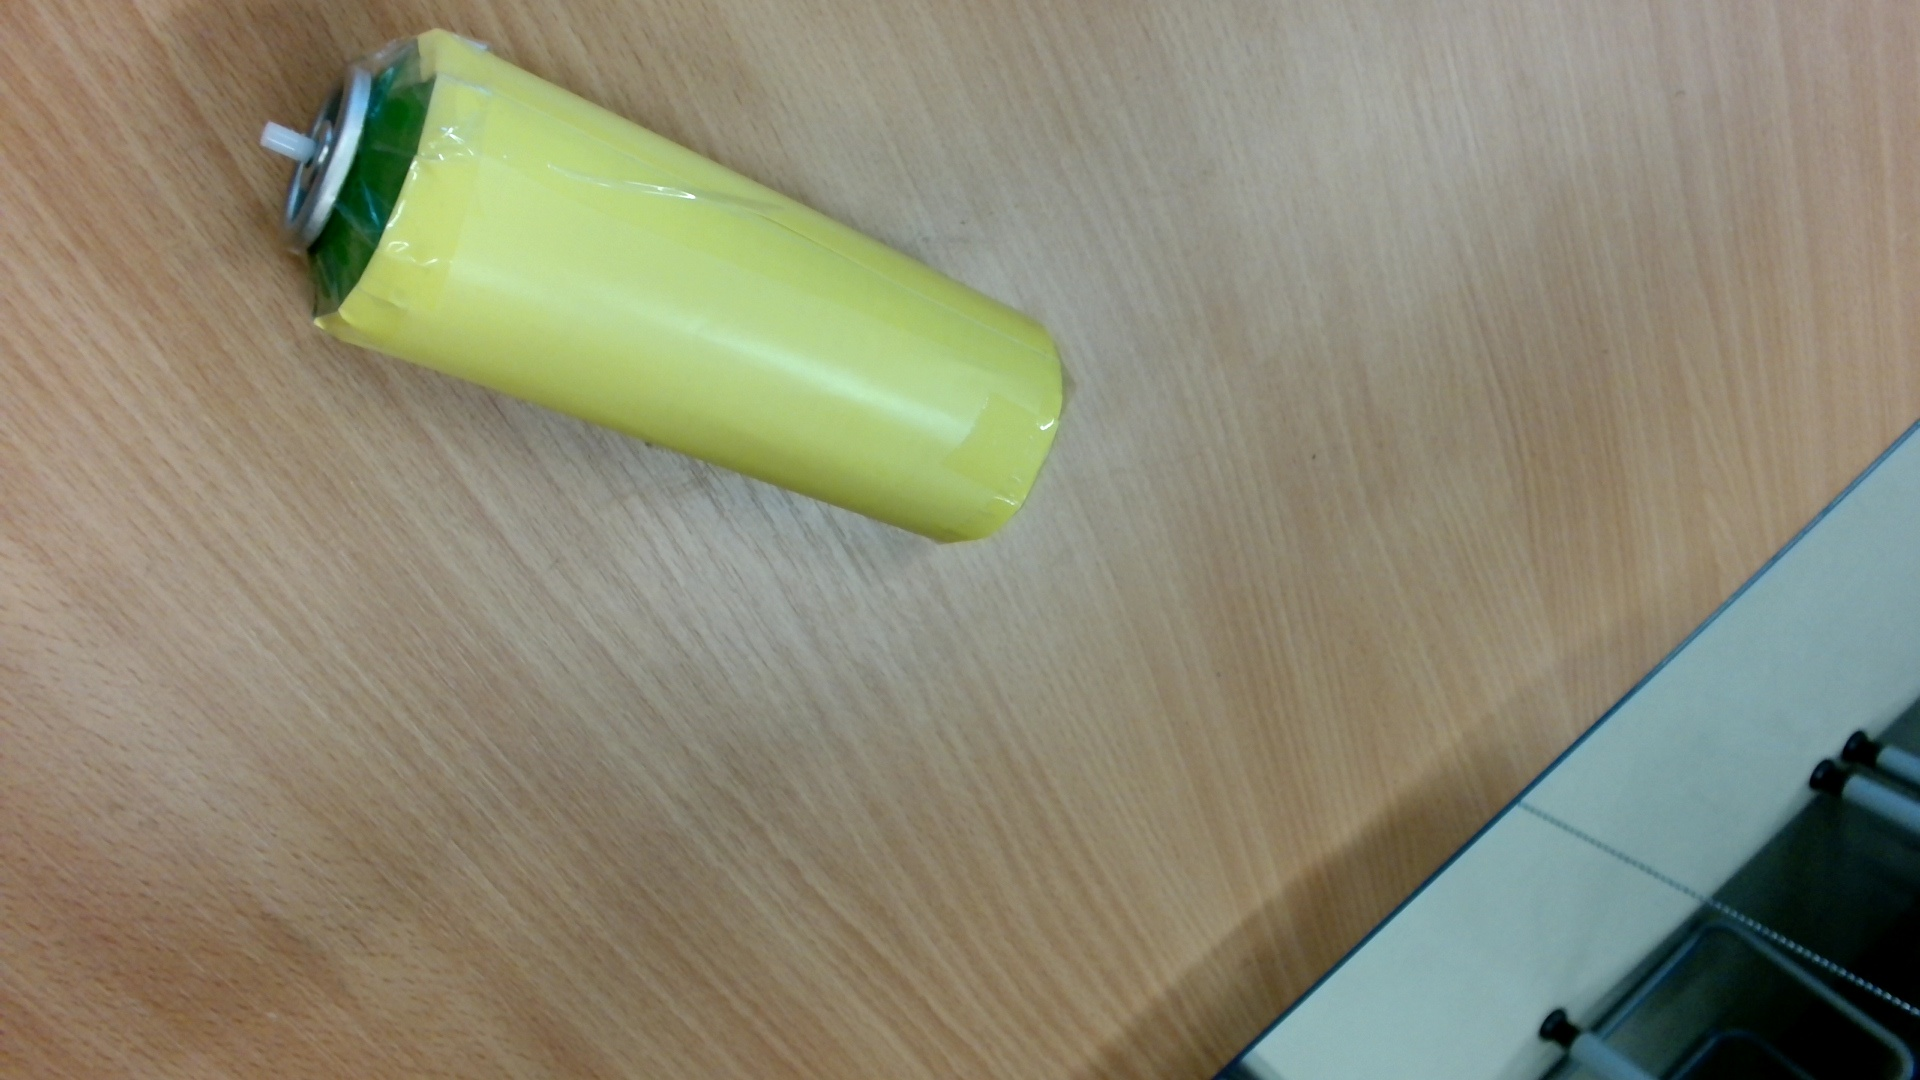Cylinder: (243, 18, 1077, 564)
